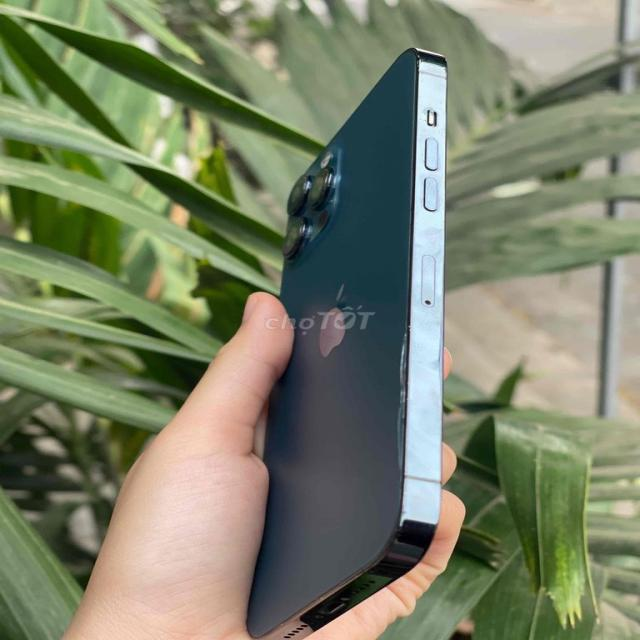gen_12_13: (240, 50, 508, 633)
